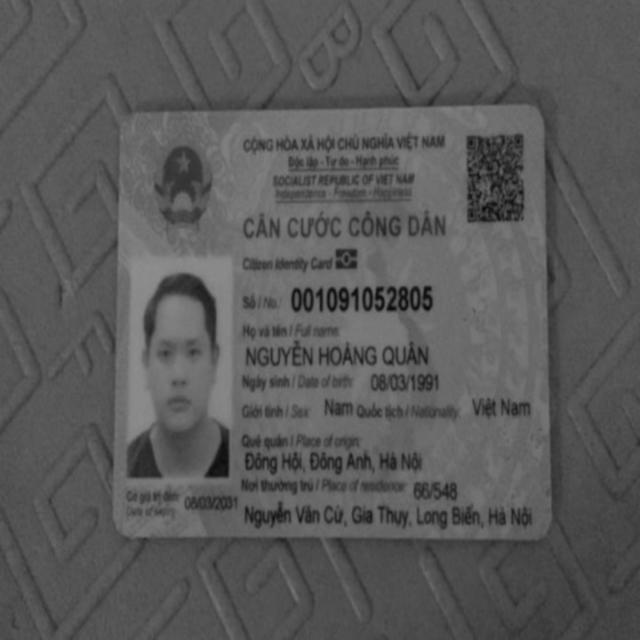bottom_left: (99, 506, 144, 551)
bottom_right: (518, 504, 562, 554)
image_person: (127, 259, 234, 476)
top_left: (104, 100, 148, 144)
top_right: (514, 90, 560, 140)
